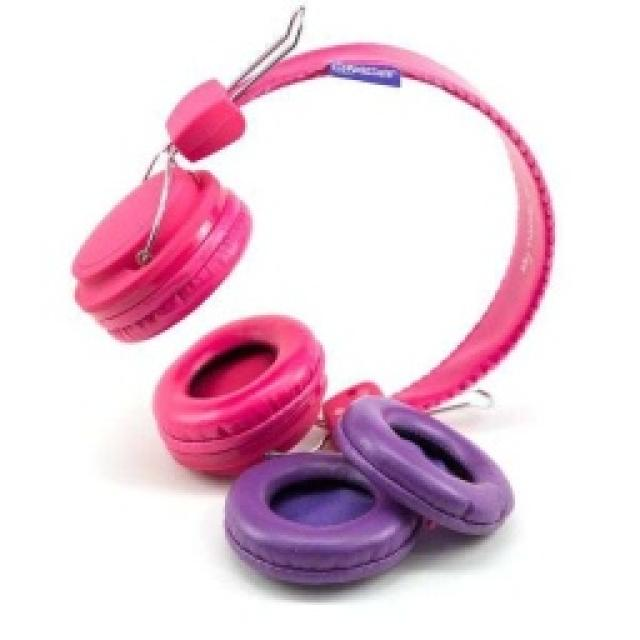headphones: (70, 5, 555, 585)
